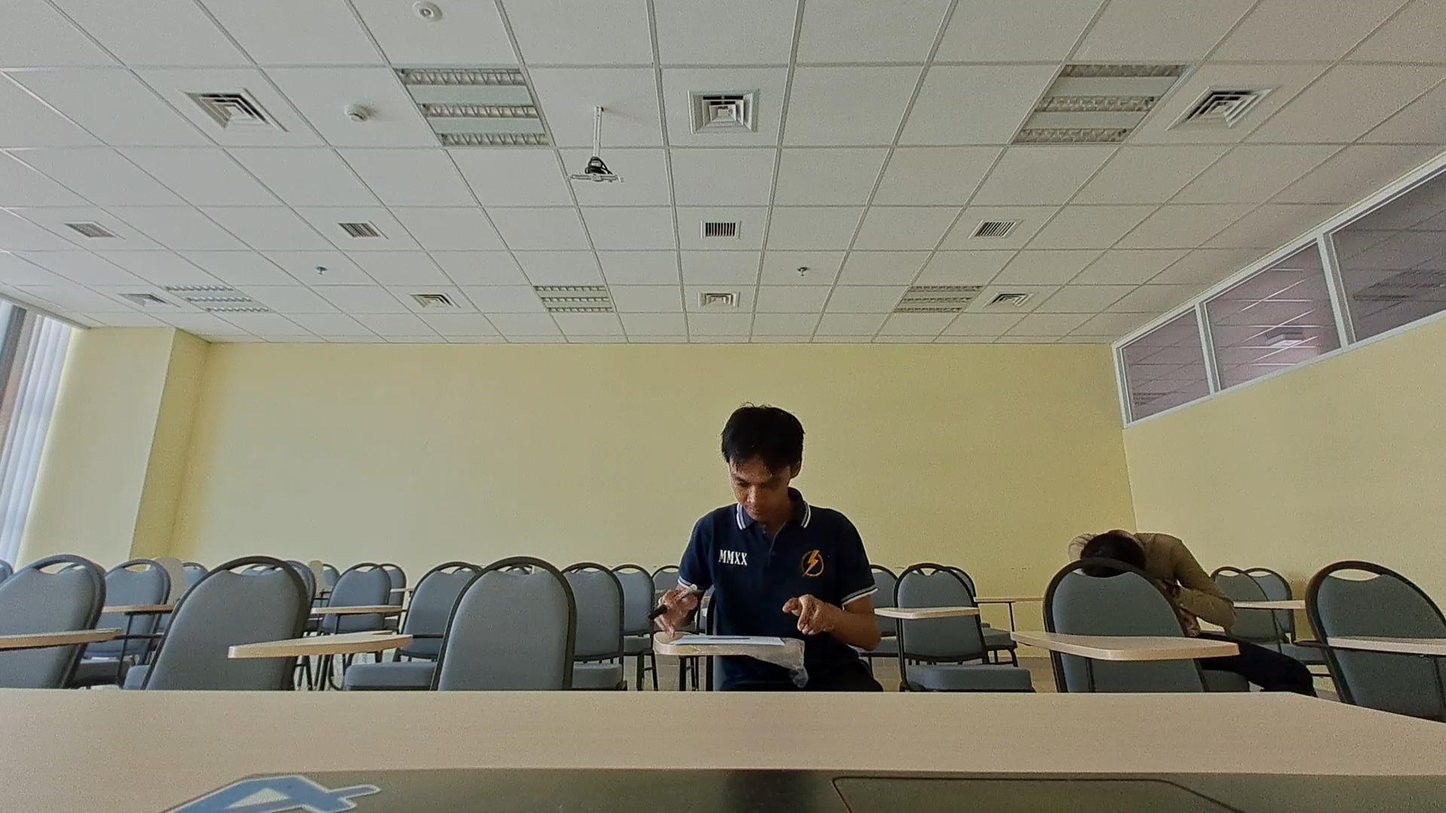sleep: (1058, 527, 1245, 642)
study: (642, 401, 889, 691)
